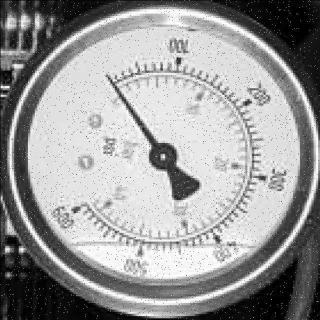gauge: (0, 0, 320, 320), (91, 63, 131, 99), (62, 186, 96, 228), (147, 140, 179, 174), (101, 69, 115, 86)
